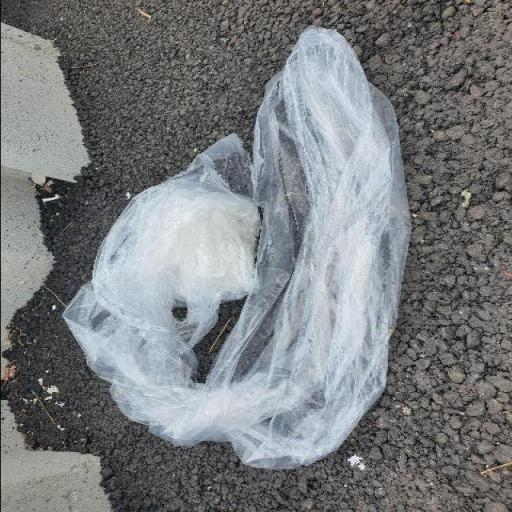plastic-bag: (56, 20, 414, 474)
